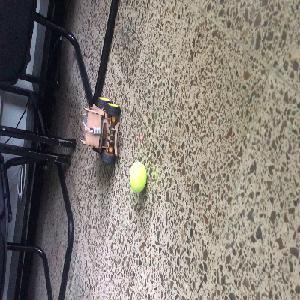Ball: (129, 161, 147, 193)
Robot: (80, 96, 121, 165)
